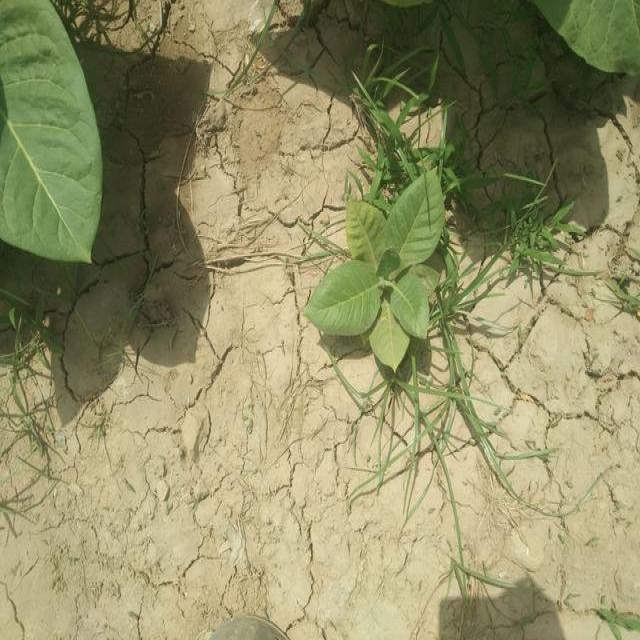crop: (0, 0, 101, 261), (314, 175, 449, 359), (529, 0, 640, 78)
